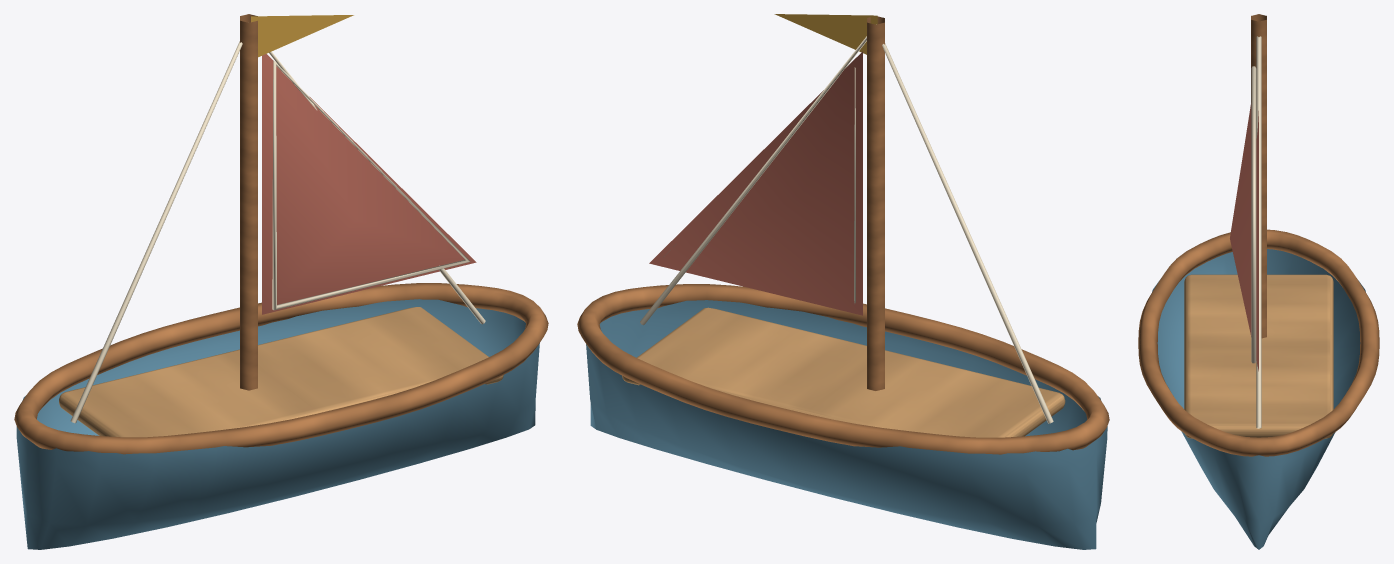
Rendered from boat.glb.
3 views of the same model, side by side, from view 1: azimuth 30°, elevation 25°; view 2: azimuth 150°, elevation 25°; view 3: azimuth 270°, elevation 25° (orthographic). The views are drawn at different scales.
Parts seen in each view (by area): view 1: Crafted_blue, Crafted_wood, Crafted_wood_light, Crafted_coral, Crafted_cream, Crafted_gold; view 2: Crafted_blue, Crafted_wood, Crafted_wood_light, Crafted_coral, Crafted_cream, Crafted_gold; view 3: Crafted_wood_light, Crafted_wood, Crafted_blue, Crafted_coral, Crafted_cream.
Part boxes in pixels (left/top/right/bottom): Crafted_blue: left=16, top=299, right=539, bottom=549; Crafted_wood: left=14, top=14, right=548, bottom=454; Crafted_wood_light: left=59, top=307, right=503, bottom=437; Crafted_coral: left=262, top=54, right=476, bottom=314; Crafted_cream: left=70, top=41, right=485, bottom=423; Crafted_gold: left=251, top=15, right=353, bottom=57; Crafted_blue: left=586, top=300, right=1107, bottom=549; Crafted_wood: left=577, top=16, right=1109, bottom=454; Crafted_wood_light: left=622, top=307, right=1065, bottom=437; Crafted_coral: left=649, top=51, right=862, bottom=315; Crafted_cream: left=640, top=24, right=1053, bottom=423; Crafted_gold: left=774, top=14, right=877, bottom=54; Crafted_wood_light: left=1184, top=274, right=1333, bottom=438; Crafted_wood: left=1138, top=14, right=1379, bottom=456; Crafted_blue: left=1152, top=249, right=1365, bottom=549; Crafted_coral: left=1230, top=103, right=1258, bottom=371; Crafted_cream: left=1251, top=36, right=1261, bottom=428.
Bounding box in the file's own units: 0.79 × 0.705 × 0.372.
6 materials, 2 textured.
